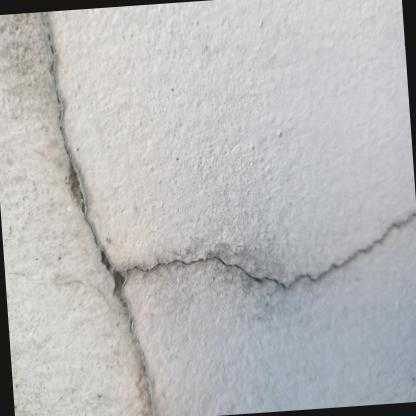crack: (41, 11, 415, 416)
